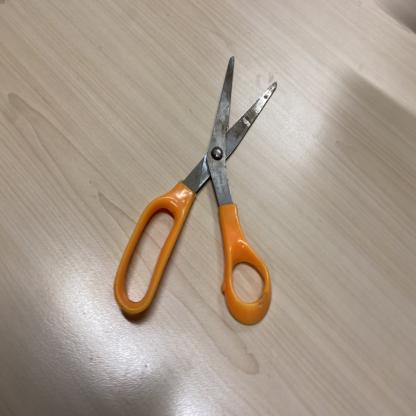scissors: (111, 55, 278, 324)
